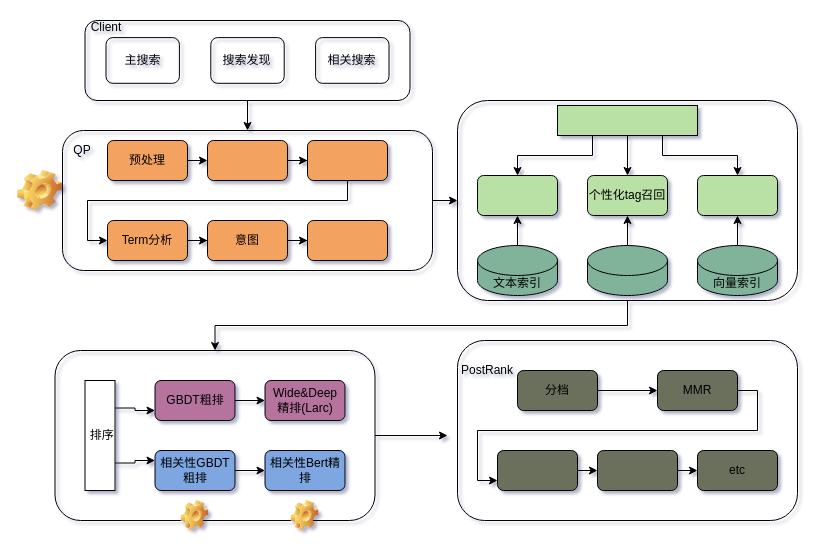
This 821x553 diagram has some shape labels left out. The shapes that lost their labels are listed below. From the top down, each one's centre as x and y in pixels, then its label:
the point at 627,120: 并发召回
the point at 247,160: 纠错
the point at 347,160: 分词
the point at 517,195: 文本召回
the point at 737,195: 语义召回
the point at 347,240: 改写
the point at 627,270: tag索引
the point at 537,470: 固定位置
the point at 637,470: Defense策略
